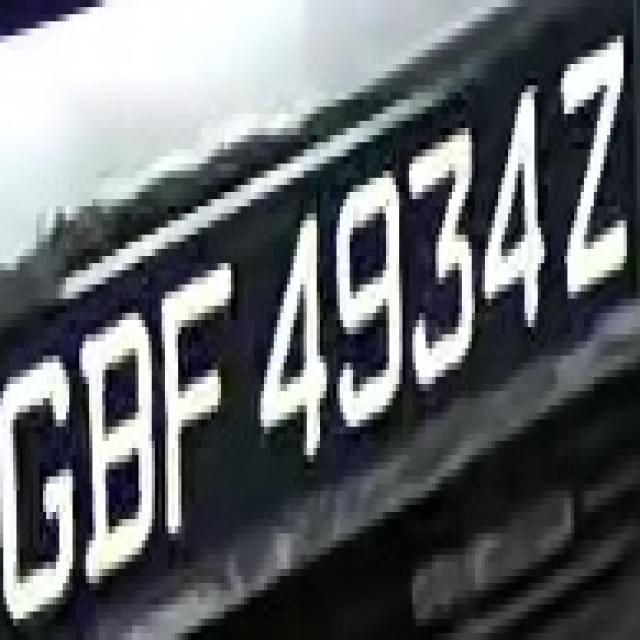3: (402, 107, 488, 391)
4: (254, 199, 333, 484), (482, 86, 558, 334)
9: (330, 157, 406, 455)
B: (80, 299, 158, 597)
F: (155, 235, 238, 569)
Z: (554, 28, 630, 313)
